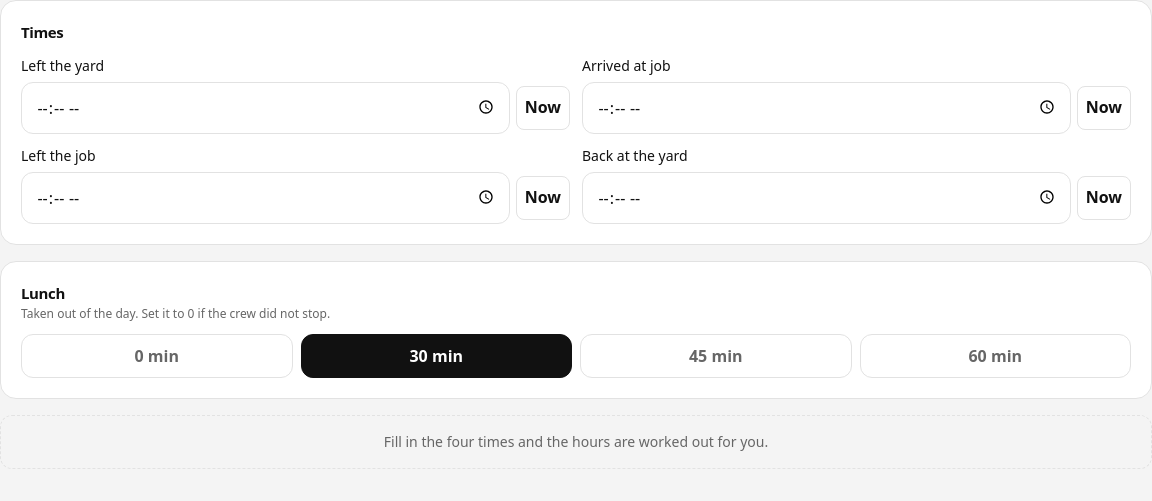
entering the day's times › works the hours out as soon as both ends of the day are in
In the time field labelled "Left the yard": (265, 108) [21,82,510,134], type "07:00"
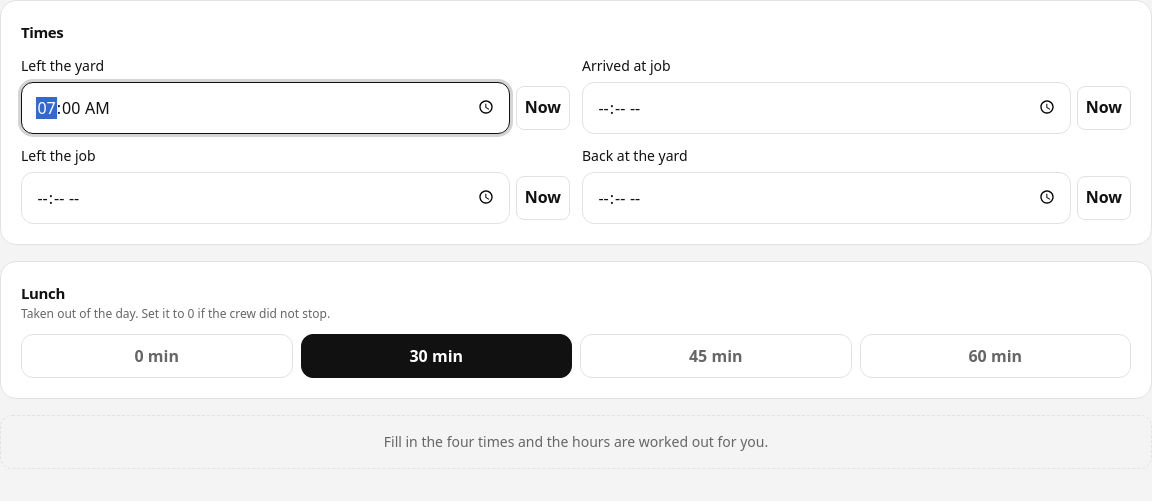
In the time field labelled "Back at the yard": (826, 198) [582,172,1071,224], type "16:30"
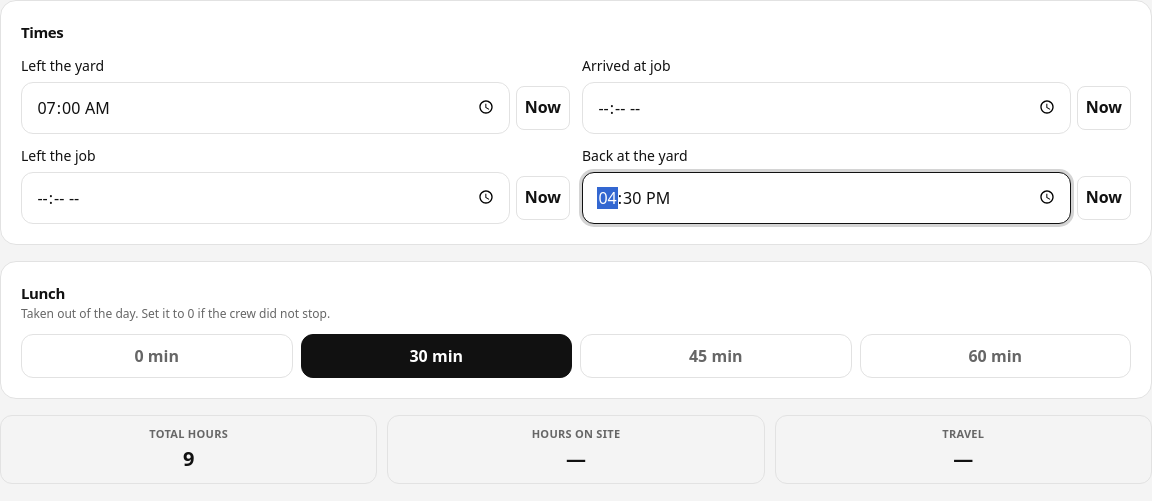
expect the text "9" is shown: met, box [183,444,194,472]
